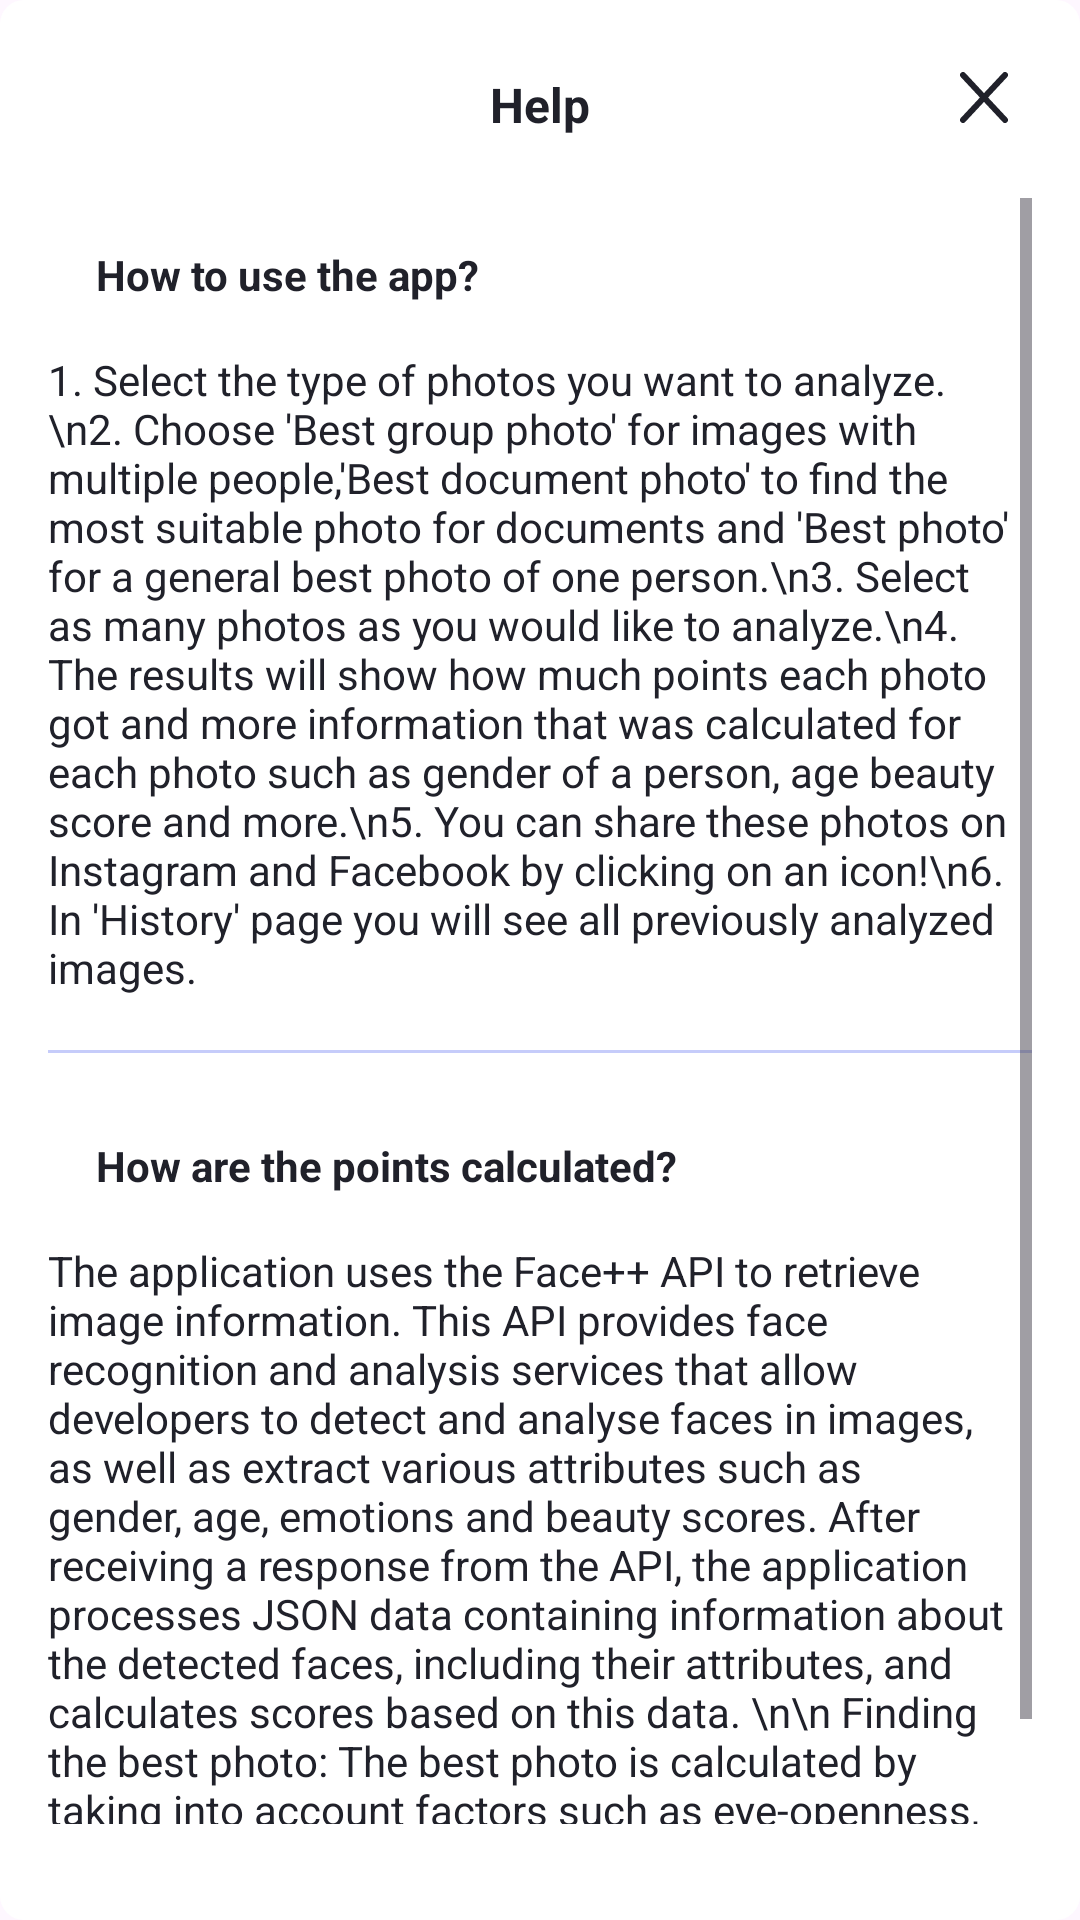

Icon click points for this 1080px x 1920px phone screenshot, format (x=x, y=y):
close: (x=984, y=97)
